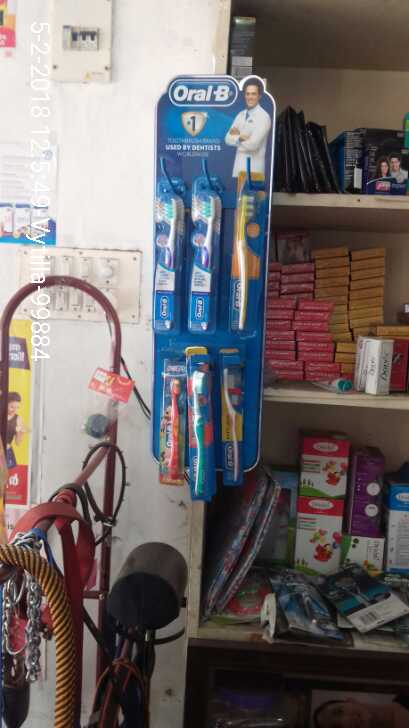oralb: (225, 165, 270, 330), (188, 176, 220, 331), (150, 177, 181, 333), (184, 346, 216, 496), (157, 355, 188, 484)
